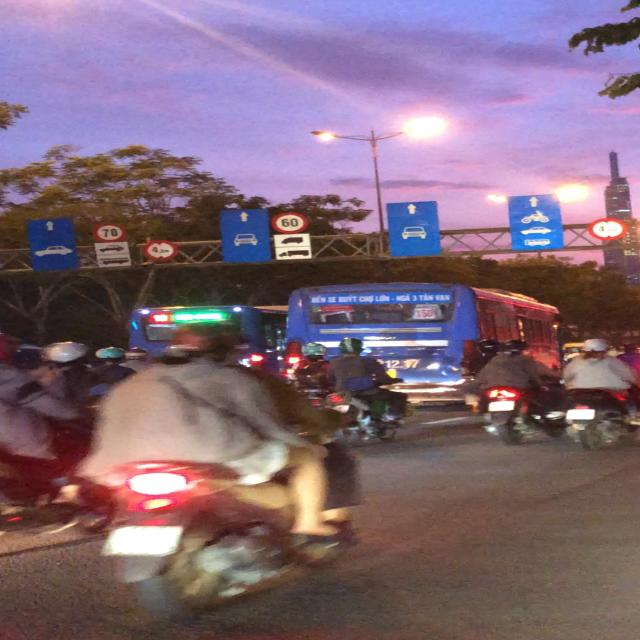Bien bao han che chieu cao: (583, 216, 632, 244), (139, 238, 178, 262)
Bien bao toc do toi da cho phep: (268, 212, 314, 235), (90, 220, 128, 244)
